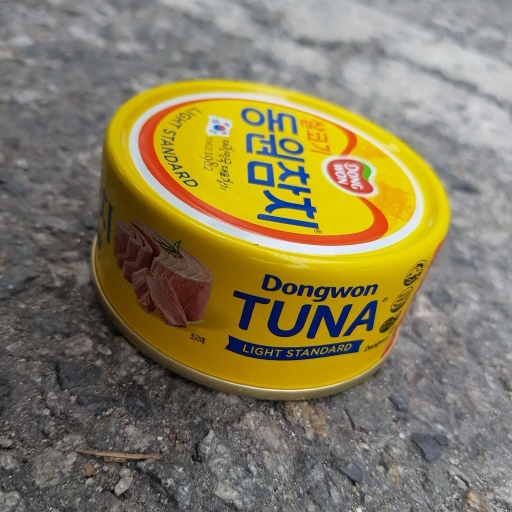Metal_1: (88, 77, 451, 399)
